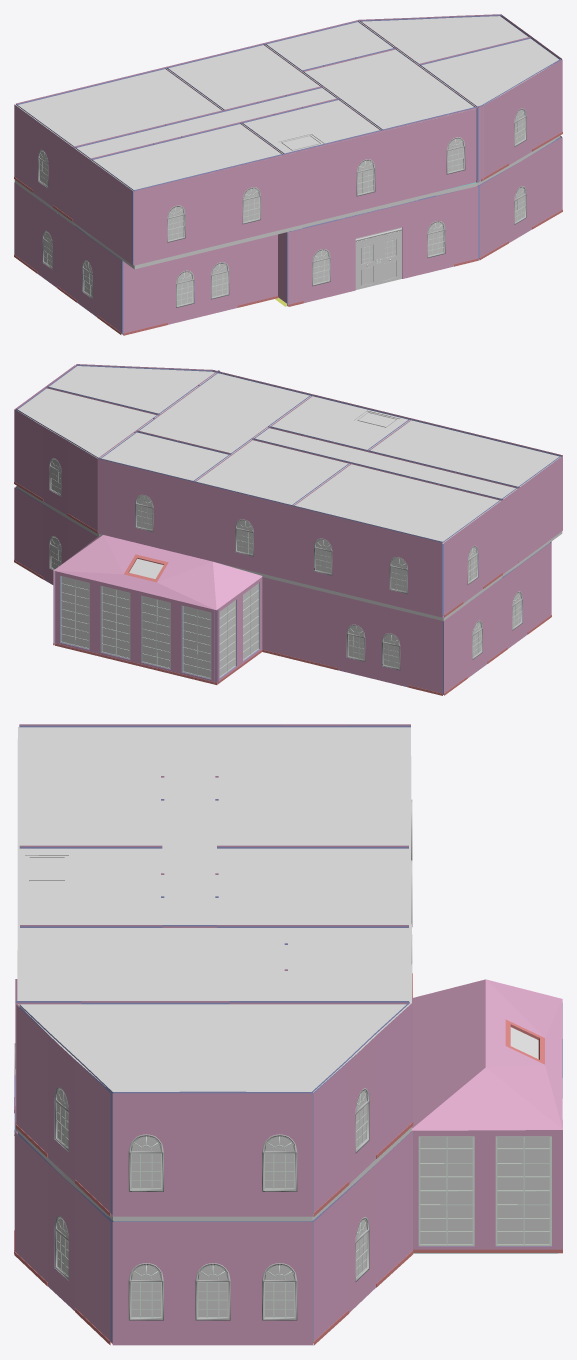
The model's file is VR House_complete 1.fbx.
3 renders of one model, top to bottom at view 1: azimuth 30°, elevation 25°; view 2: azimuth 150°, elevation 25°; view 3: azimuth 270°, elevation 25°, orthographic. The views are drawn at different scales.
Visible parts, largest first — view 1: Plane.005, Basic_Wall_01.015, Basic_Wall_01.094, Basic_Wall_01.054, Basic_Wall_01.093, Basic_Wall_01.096, Basic_Wall_01.030, Basic_Wall_01.032, Plane.004, Wall_Window_07.026, Wall_Window_07.014, Wall_Window_07.015 (+31 smaller); view 2: Plane.005, Basic_Wall_01.047, Basic_Wall_01.066, Basic_Wall_01.068, Basic_Wall_01.065, Basic_Wall_01.010, Basic_Wall_01.022, Basic_Wall_01.023, Basic_Wall_01.064, Wall_Window_07.021, Wall_Window_07.024, Wall_Window_07.023 (+36 smaller); view 3: Plane.005, Basic_Wall_01.047, Basic_Wall_01.106, Wall_Window_07.004, Wall_Window_07.005, Wall_Window_07.018, Wall_Window_07.003, Wall_Window_07.016, Window_Left_01.007, Window_Left_01.008, Basic_Wall_01.055, Basic_Wall_01.019 (+20 smaller).
Boxes of the visible parts, x1=… form: Plane.005: x1=15, y1=16, x2=558, y2=190; Basic_Wall_01.015: x1=338, y1=200, x2=418, y2=294; Basic_Wall_01.094: x1=268, y1=147, x2=312, y2=232; Basic_Wall_01.054: x1=397, y1=116, x2=438, y2=201; Basic_Wall_01.093: x1=192, y1=166, x2=234, y2=250; Basic_Wall_01.096: x1=311, y1=138, x2=348, y2=221; Basic_Wall_01.030: x1=127, y1=261, x2=167, y2=334; Basic_Wall_01.032: x1=237, y1=234, x2=278, y2=307; Plane.004: x1=14, y1=136, x2=560, y2=269; Wall_Window_07.026: x1=233, y1=157, x2=269, y2=241; Wall_Window_07.014: x1=347, y1=129, x2=383, y2=213; Wall_Window_07.015: x1=437, y1=108, x2=473, y2=191; Plane.005: x1=17, y1=366, x2=560, y2=543; Basic_Wall_01.047: x1=54, y1=535, x2=262, y2=610; Basic_Wall_01.066: x1=262, y1=498, x2=306, y2=583; Basic_Wall_01.068: x1=340, y1=517, x2=382, y2=602; Basic_Wall_01.065: x1=162, y1=473, x2=203, y2=558; Basic_Wall_01.010: x1=262, y1=577, x2=302, y2=661; Basic_Wall_01.022: x1=302, y1=587, x2=338, y2=670; Basic_Wall_01.023: x1=408, y1=613, x2=443, y2=695; Basic_Wall_01.064: x1=97, y1=458, x2=127, y2=540; Wall_Window_07.021: x1=126, y1=465, x2=162, y2=548; Wall_Window_07.024: x1=305, y1=509, x2=341, y2=592; Wall_Window_07.023: x1=381, y1=527, x2=417, y2=610; Plane.005: x1=17, y1=727, x2=411, y2=1092; Basic_Wall_01.047: x1=411, y1=979, x2=562, y2=1130; Basic_Wall_01.106: x1=179, y1=1091, x2=246, y2=1216; Wall_Window_07.004: x1=179, y1=1221, x2=246, y2=1345; Wall_Window_07.005: x1=112, y1=1221, x2=179, y2=1345; Wall_Window_07.018: x1=112, y1=1092, x2=179, y2=1216; Wall_Window_07.003: x1=246, y1=1220, x2=312, y2=1345; Wall_Window_07.016: x1=246, y1=1092, x2=312, y2=1216; Window_Left_01.007: x1=418, y1=1136, x2=474, y2=1245; Window_Left_01.008: x1=495, y1=1136, x2=551, y2=1245; Basic_Wall_01.055: x1=313, y1=1061, x2=349, y2=1213; Basic_Wall_01.019: x1=313, y1=1190, x2=349, y2=1342.
Size of the model in its own units: 2620 by 834 by 1645.
